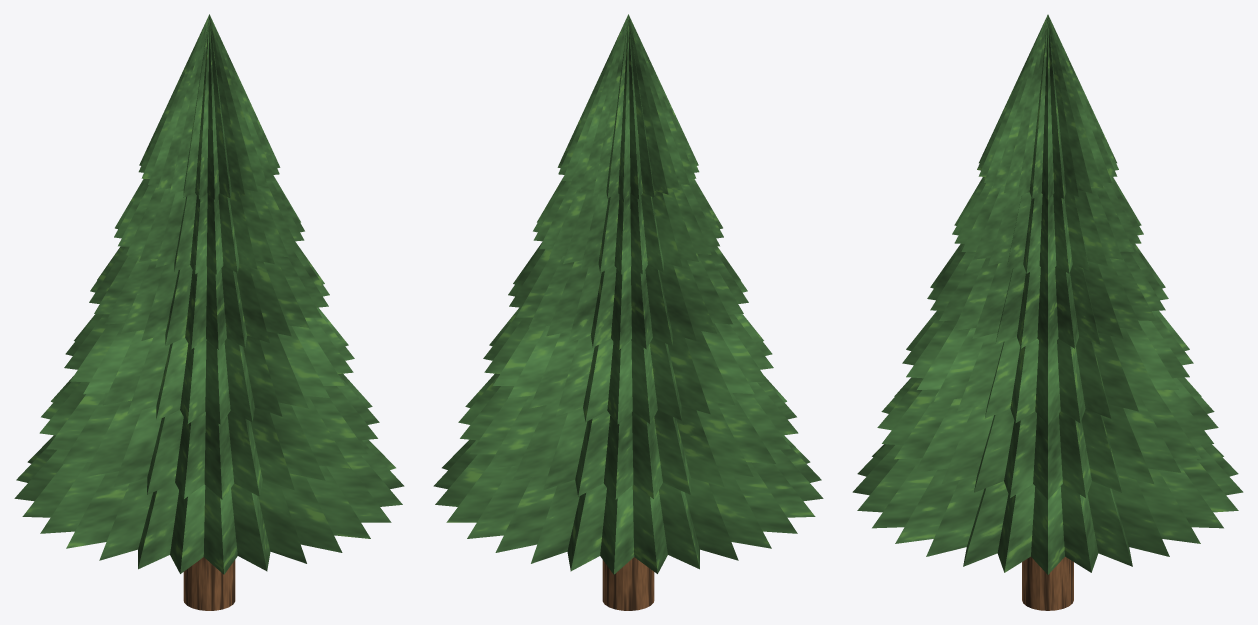
Rendered from PineTree_LOD0.fbx.
3 renders of one model, left to right at view 1: azimuth 30°, elevation 25°; view 2: azimuth 150°, elevation 25°; view 3: azimuth 270°, elevation 25°, orthographic.
Visible parts, largest first — view 1: PineTree_LOD0; view 2: PineTree_LOD0; view 3: PineTree_LOD0.
Part boxes in pixels (bbox=[...]): PineTree_LOD0: bbox=[14, 14, 404, 610]; PineTree_LOD0: bbox=[433, 14, 823, 610]; PineTree_LOD0: bbox=[852, 14, 1243, 610].
Size of the model in its own units: 3.3 by 5.45 by 3.3.
Materials: 2 (2 with a texture image).
